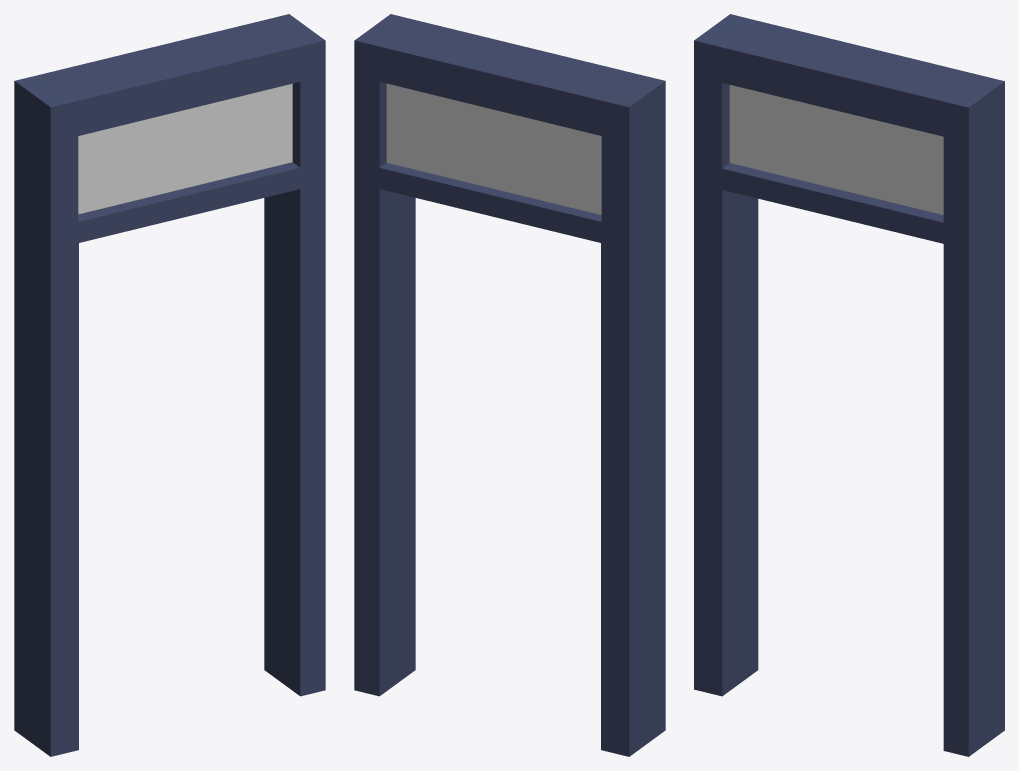
The model's file is frame-pintu.fbx.
3 renders of one model, left to right at view 1: azimuth 30°, elevation 25°; view 2: azimuth 150°, elevation 25°; view 3: azimuth 330°, elevation 25°, orthographic.
Visible parts, largest first — view 1: Pintu 1.003; view 2: Pintu 1.003; view 3: Pintu 1.003.
Boxes of the visible parts, box(x1,y1,x2,y2) form: Pintu 1.003: box(14, 14, 325, 756); Pintu 1.003: box(354, 14, 665, 756); Pintu 1.003: box(694, 14, 1004, 756).
Size of the model in its own units: 99.36 by 225 by 22.67.
